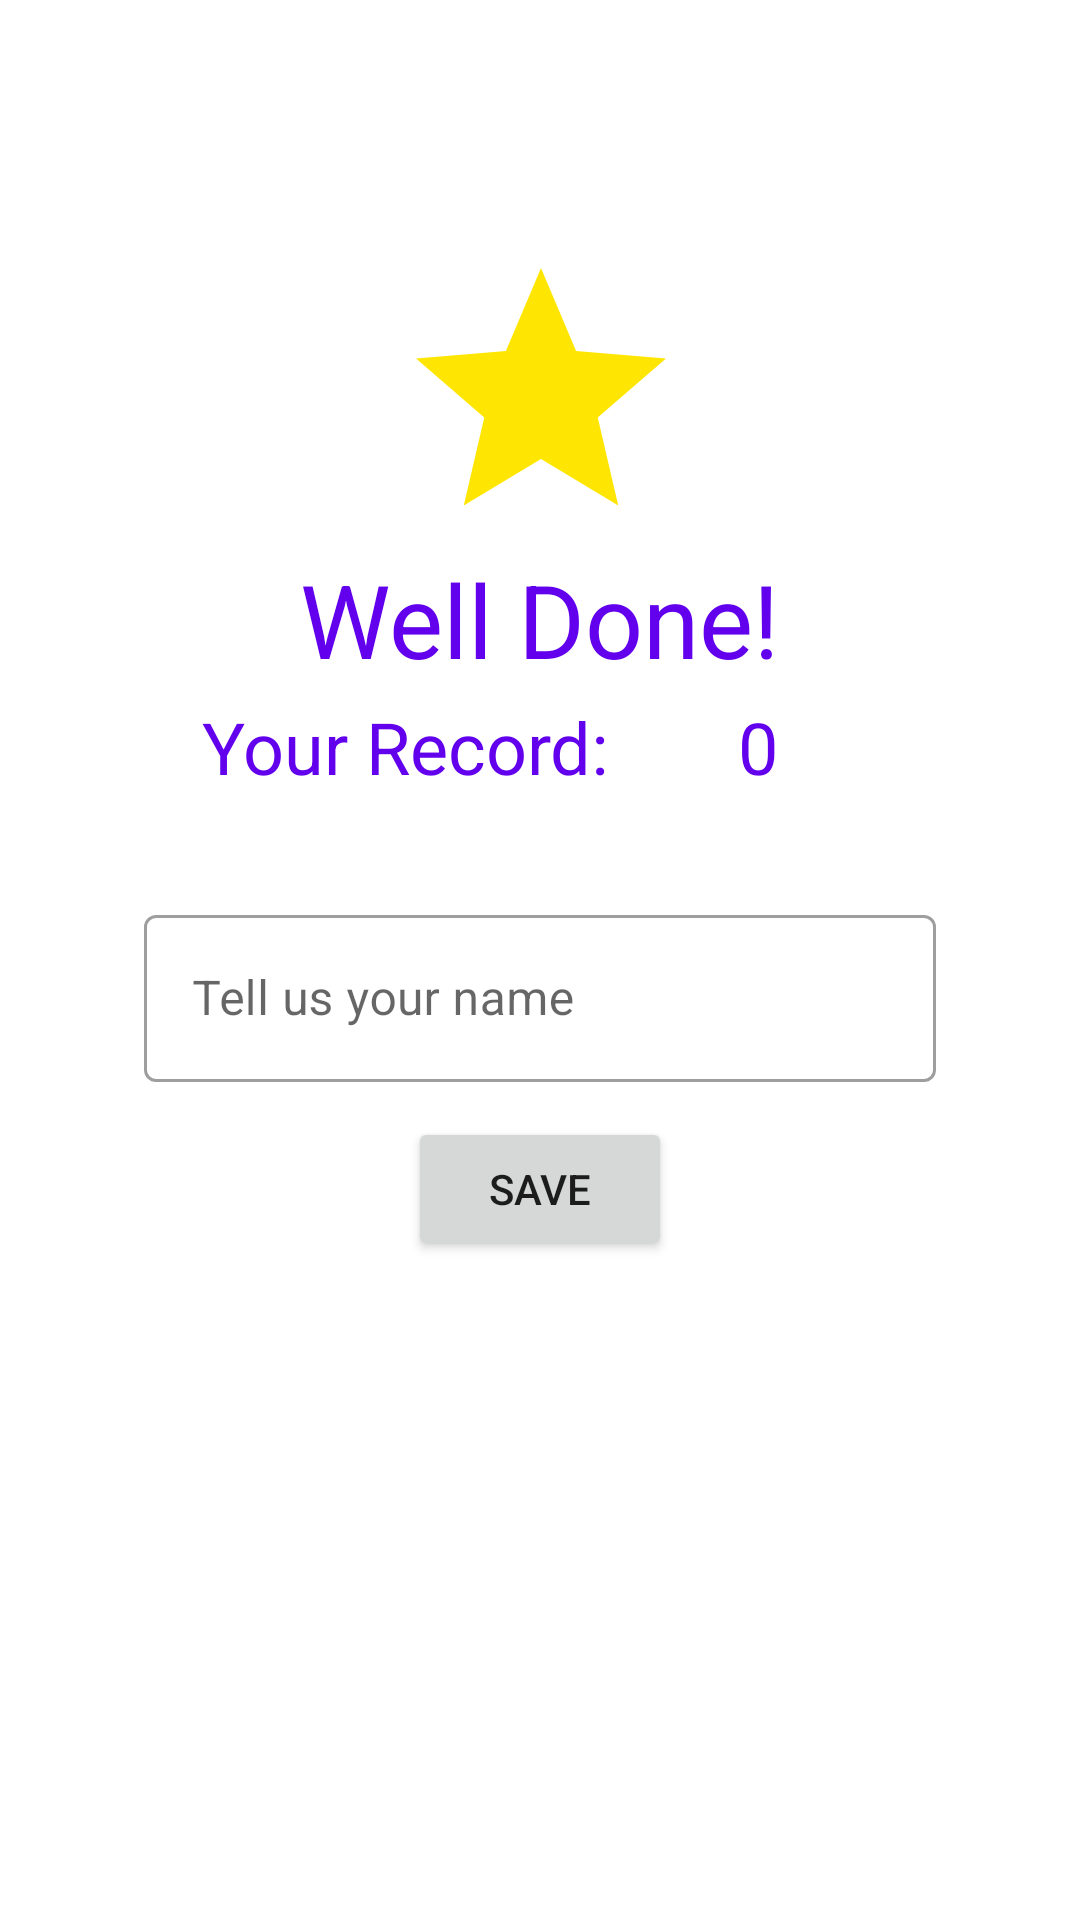

Icon bounding boxes for this 1080 × 1920 phone screenshot, format (x1, y1, x2, y2):
grade: (416, 268, 666, 505)
